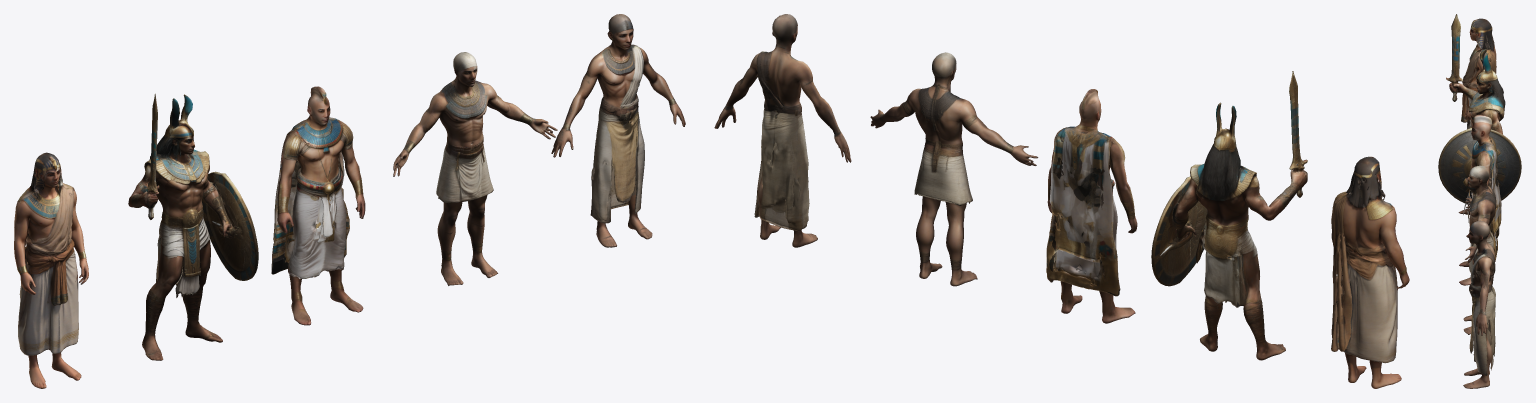
The model's file is egyptian_people.glb.
3 renders of one model, left to right at view 1: azimuth 30°, elevation 25°; view 2: azimuth 150°, elevation 25°; view 3: azimuth 270°, elevation 25°, orthographic. The views are drawn at different scales.
Visible parts, largest first — view 1: Warrior, Commander, King, Resident, Slave; view 2: Warrior, Commander, King, Resident, Slave; view 3: Warrior, Resident, Commander, Slave, King.
Part boxes in pixels (x1,y1,x2,y2): Warrior: [128, 93, 258, 360]; Commander: [271, 86, 365, 325]; King: [14, 152, 88, 388]; Resident: [551, 14, 685, 247]; Slave: [393, 52, 557, 285]; Warrior: [1151, 71, 1307, 360]; Commander: [1046, 89, 1137, 323]; King: [1331, 156, 1409, 388]; Resident: [714, 14, 851, 247]; Slave: [870, 52, 1038, 286]; Warrior: [1438, 14, 1521, 237]; Resident: [1463, 220, 1495, 388]; Commander: [1459, 114, 1501, 285]; Slave: [1463, 165, 1496, 334]; King: [1461, 18, 1496, 129].
Bounding box in the file's own units: 6.37 × 2.48 × 0.9444.
5 materials, 5 textured.
